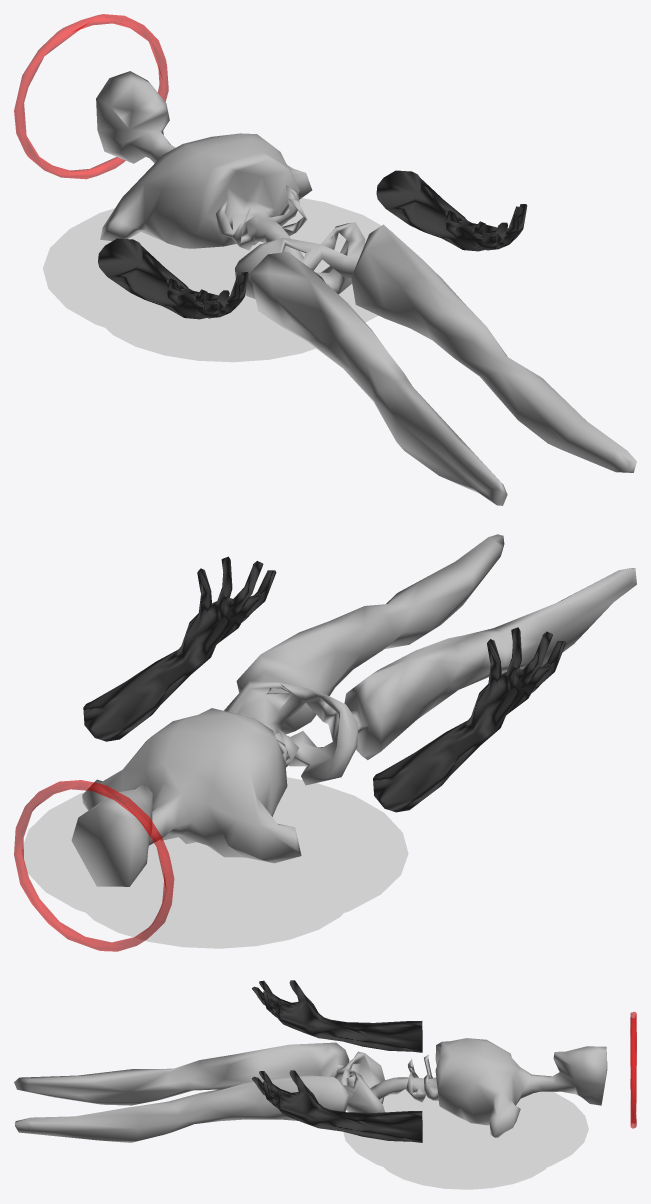
File: skeleton.fbx
3 views of the same model, one above another, from view 1: azimuth 30°, elevation 25°; view 2: azimuth 150°, elevation 25°; view 3: azimuth 270°, elevation 25° (orthographic). The views are drawn at different scales.
Visible parts, largest first — view 1: skeleton:skeleton.001, glow2, hand1:arm_mesh, hand2:arm_mesh, outter_torus, glow1; view 2: skeleton:skeleton.001, glow2, hand2:arm_mesh, hand1:arm_mesh, outter_torus, glow1; view 3: skeleton:skeleton.001, glow2, hand2:arm_mesh, hand1:arm_mesh, glow1, outter_torus.
Boxes of the visible parts, <box> form: skeleton:skeleton.001: <box>96,71,636,505</box>; glow2: <box>42,198,393,348</box>; hand1:arm_mesh: <box>98,238,248,319</box>; hand2:arm_mesh: <box>376,170,527,251</box>; outter_torus: <box>14,14,168,179</box>; glow1: <box>105,328,315,362</box>; skeleton:skeleton.001: <box>71,534,636,886</box>; glow2: <box>21,777,408,934</box>; hand2:arm_mesh: <box>83,556,276,741</box>; hand1:arm_mesh: <box>373,627,565,812</box>; outter_torus: <box>14,780,174,951</box>; glow1: <box>86,913,343,948</box>; skeleton:skeleton.001: <box>14,1038,607,1142</box>; glow2: <box>343,1089,588,1180</box>; hand2:arm_mesh: <box>252,1070,422,1142</box>; hand1:arm_mesh: <box>252,980,422,1052</box>; glow1: <box>384,1167,547,1189</box>; outter_torus: <box>630,1012,636,1128</box>.
Size of the model in its own units: 1.37 by 0.7312 by 3.16.
